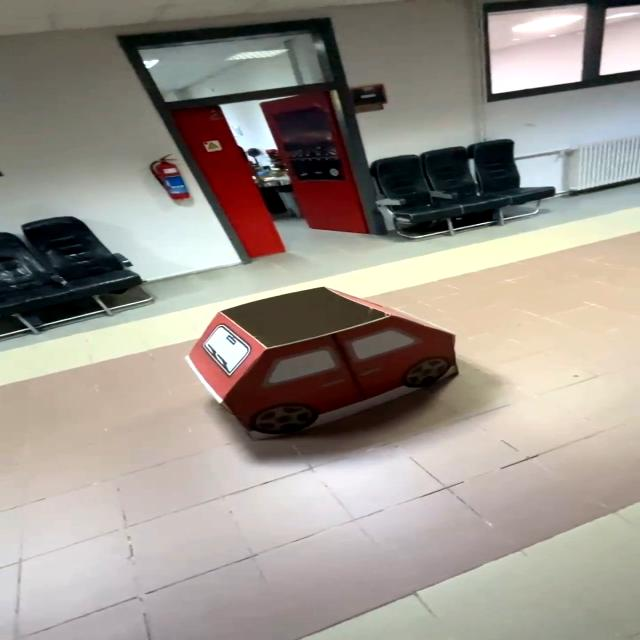red_car: (171, 278, 482, 451)
